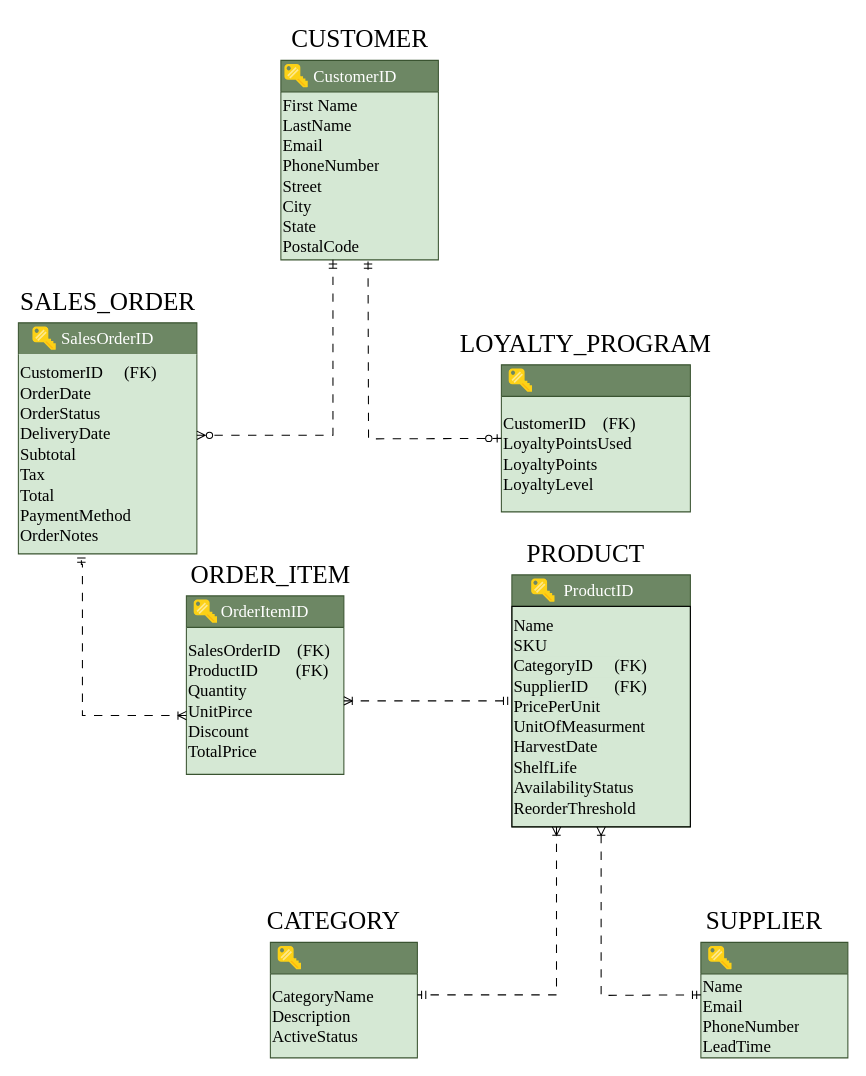
Some shapes in this 866 by 1076 pixel diagram are drawn without their labels. The box of each missing label's shape, as (x1, y1, x2, y2) in pixels:
CategoryID: (269, 941, 417, 1058)
LoyaltyProgramID: (500, 364, 690, 512)
SupplierID: (700, 941, 848, 1058)
